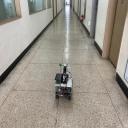cart: (54, 74, 72, 101)
